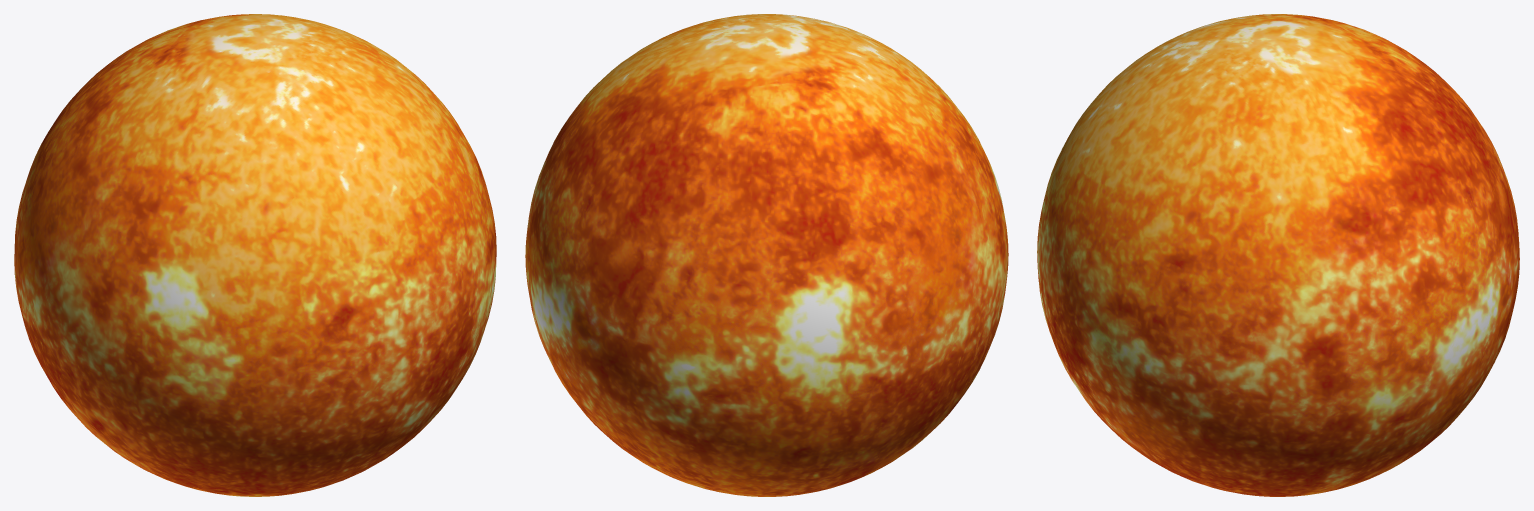
File: uploads_files_4395783_Sun.fbx
3 views of the same model, side by side, from view 1: azimuth 30°, elevation 25°; view 2: azimuth 150°, elevation 25°; view 3: azimuth 270°, elevation 25° (orthographic).
Parts seen in each view (by area): view 1: sun1; view 2: sun1; view 3: sun1.
Boxes of the visible parts, left/top/right/bottom form: sun1: left=14, top=14, right=496, bottom=496; sun1: left=525, top=14, right=1008, bottom=496; sun1: left=1037, top=14, right=1519, bottom=496.
Size of the model in its own units: 199 by 199 by 199.
Materials: 1 (1 with a texture image).
